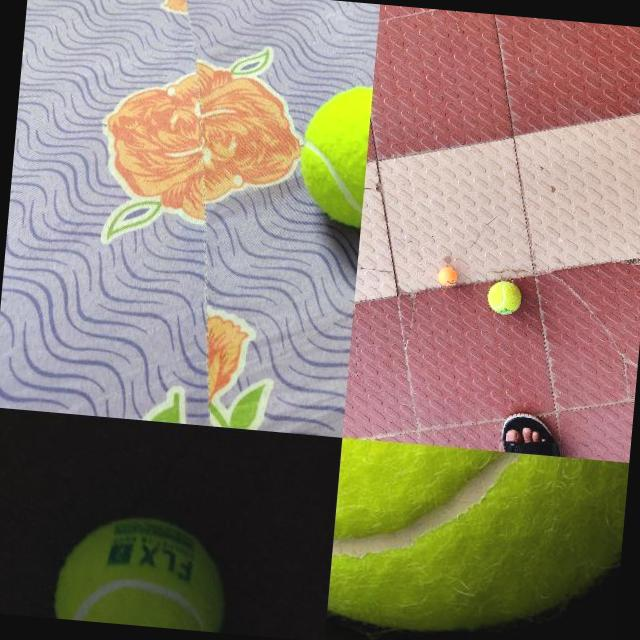Tennis Ball: (325, 437, 627, 640), (51, 510, 232, 632), (294, 78, 372, 227), (485, 280, 522, 316)
